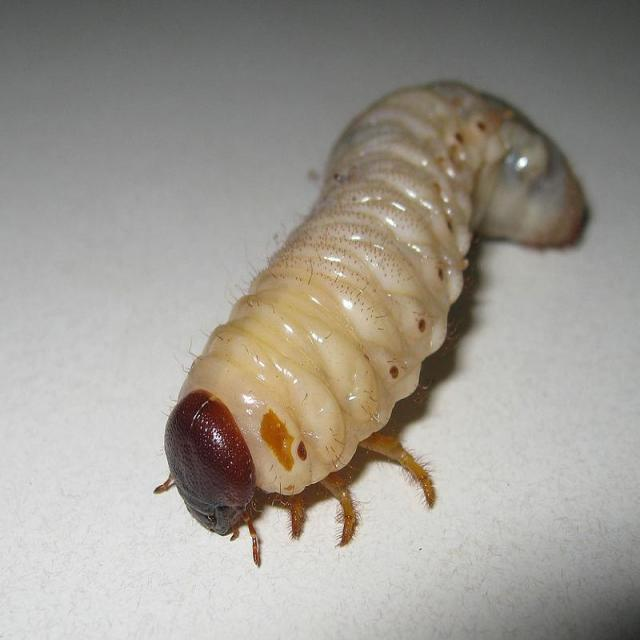Grub-Adult-: (96, 48, 595, 576)
